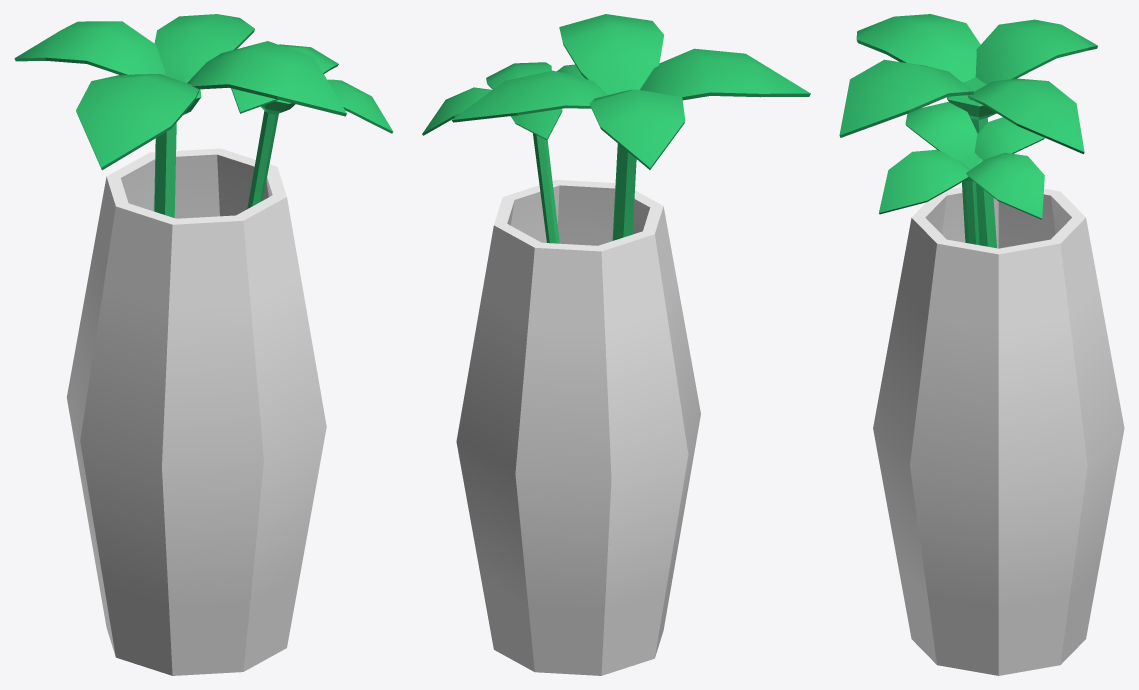
File: Vase of Flower LV1.fbx
3 views of the same model, side by side, from view 1: azimuth 30°, elevation 25°; view 2: azimuth 150°, elevation 25°; view 3: azimuth 270°, elevation 25° (orthographic). The views are drawn at different scales.
Parts seen in each view (by area): view 1: Vase_of_Flower_LV1; view 2: Vase_of_Flower_LV1; view 3: Vase_of_Flower_LV1.
Part boxes in pixels (x1,y1,x2,y2): Vase_of_Flower_LV1: [14, 14, 393, 675]; Vase_of_Flower_LV1: [422, 14, 810, 675]; Vase_of_Flower_LV1: [839, 14, 1124, 675].
Bounding box in the file's own units: 28.11 × 52.83 × 23.63.
